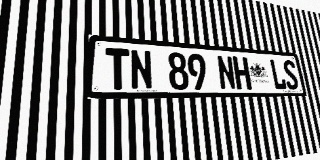8: (167, 52, 189, 90)
9: (187, 53, 208, 90)
H: (232, 56, 252, 90)
L: (269, 59, 287, 90)
N: (130, 49, 153, 90), (216, 55, 237, 90)
S: (282, 60, 300, 90)
T: (106, 47, 130, 90)
